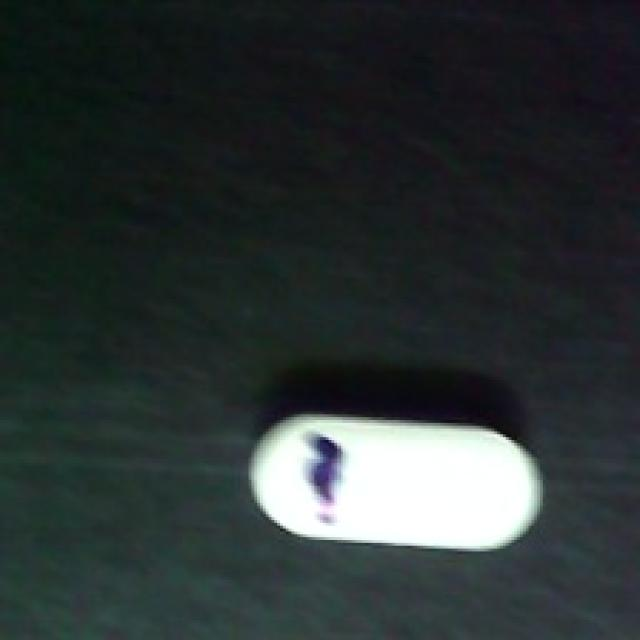defected: (246, 409, 551, 557)
